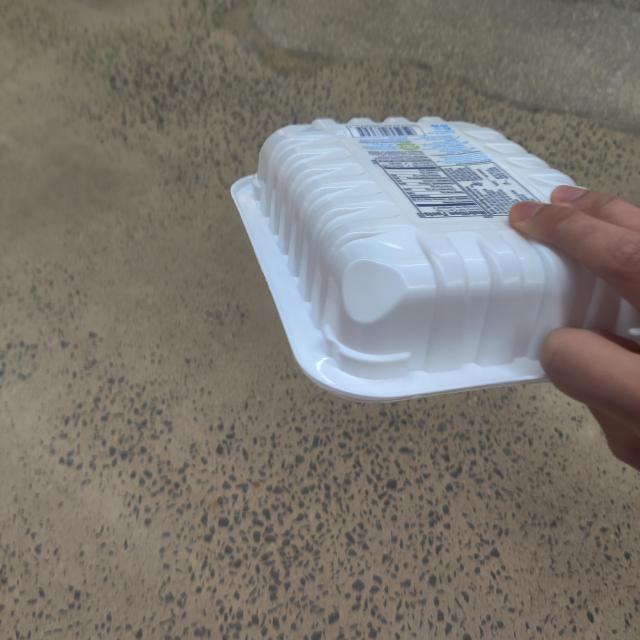Tofu: (201, 96, 640, 414)
